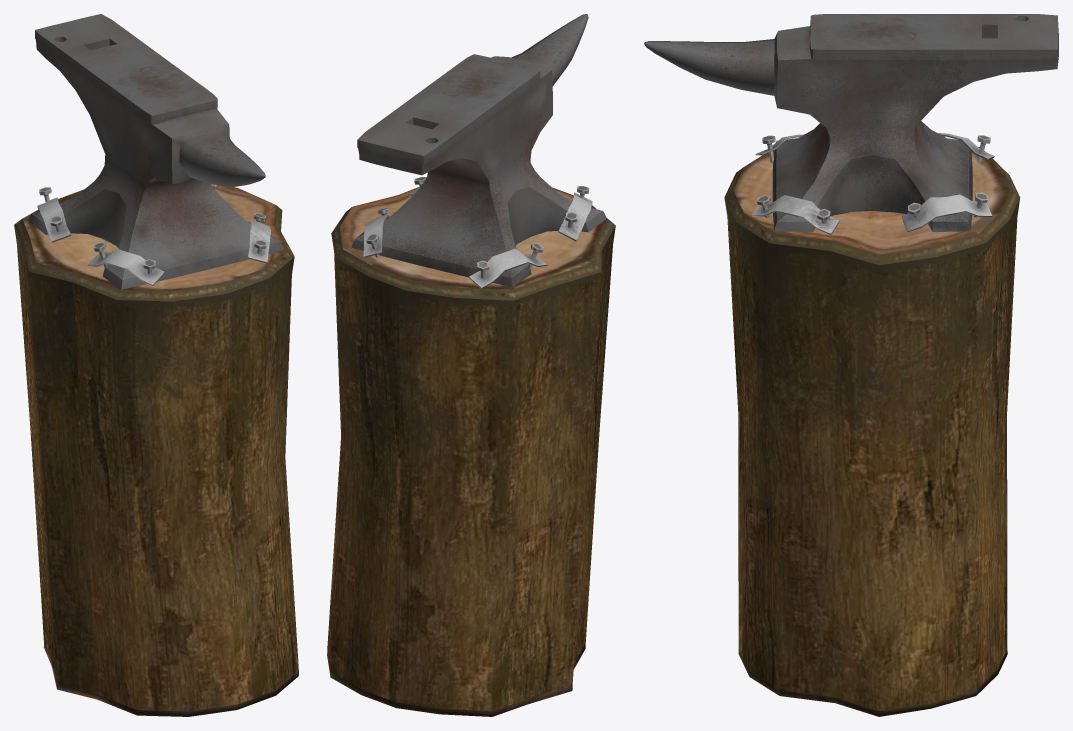
File: PRP_Anvil.glb
The picture shows the model from 3 angles, left to right: view 1: azimuth 30°, elevation 25°; view 2: azimuth 150°, elevation 25°; view 3: azimuth 270°, elevation 25°; orthographic projection. The views are drawn at different scales.
Parts seen in each view (by area): view 1: Clamps_low_AnvilMAT_0; view 2: Clamps_low_AnvilMAT_0; view 3: Clamps_low_AnvilMAT_0.
Boxes of the visible parts, x1=… form: Clamps_low_AnvilMAT_0: x1=14, y1=14, x2=298, y2=716; Clamps_low_AnvilMAT_0: x1=327, y1=14, x2=615, y2=716; Clamps_low_AnvilMAT_0: x1=644, y1=14, x2=1058, y2=716.
Size of the model in its own units: 327 by 698 by 426.
1 material, 1 textured.
